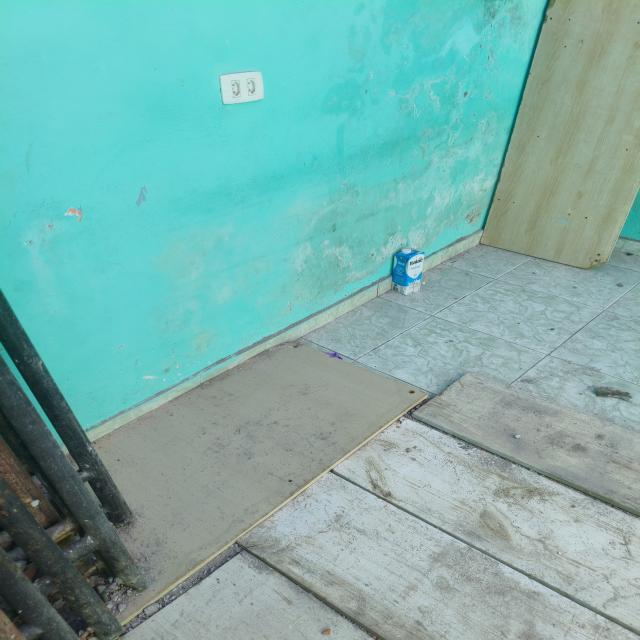Caixa de Leite: (391, 248, 424, 296)
